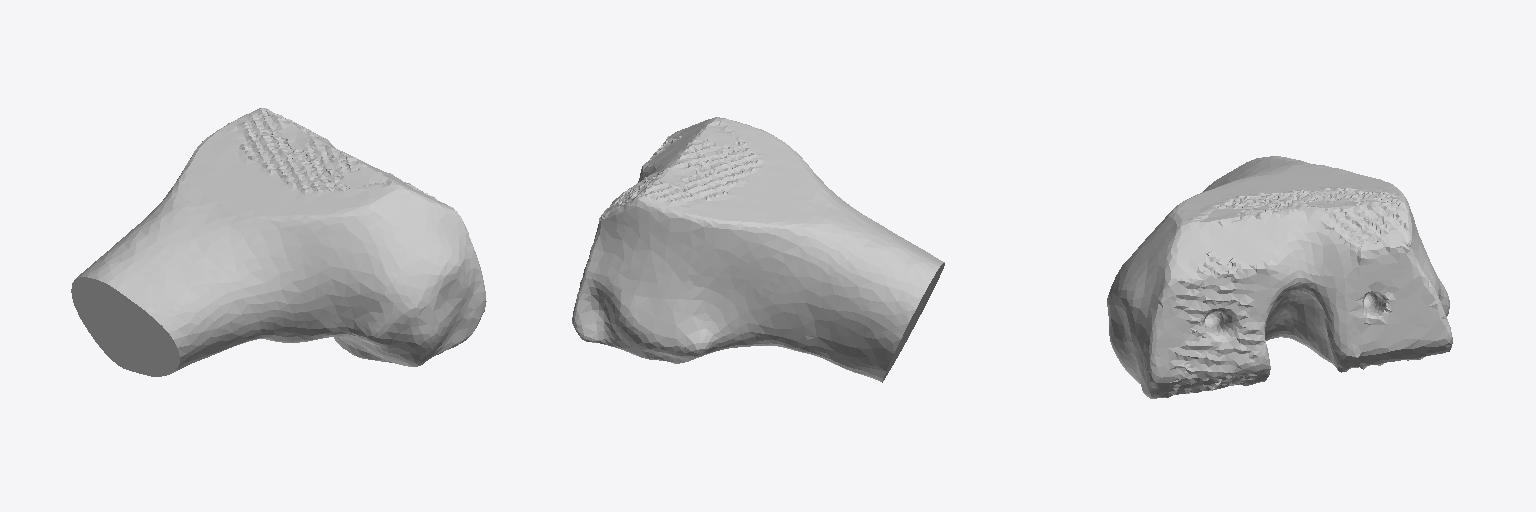
File: FemoreCut.obj
3 renders of one model, left to right at view 1: azimuth 30°, elevation 25°; view 2: azimuth 150°, elevation 25°; view 3: azimuth 270°, elevation 25°, orthographic.
Parts seen in each view (by area): view 1: Knee_Prosthesis_5; view 2: Knee_Prosthesis_5; view 3: Knee_Prosthesis_5.
Boxes of the visible parts, <box> form: Knee_Prosthesis_5: <box>71,108,486,376</box>; Knee_Prosthesis_5: <box>572,117,944,382</box>; Knee_Prosthesis_5: <box>1107,156,1452,398</box>.
Bounding box in the file's own units: 41.33 × 20.86 × 36.99.